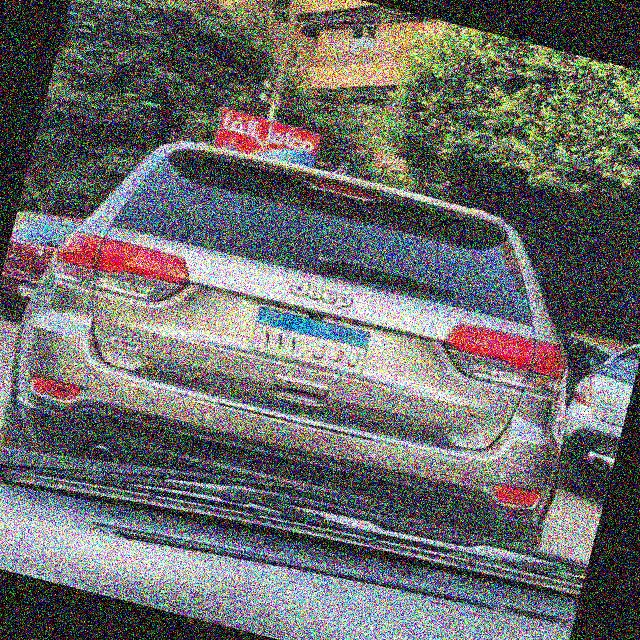License Plate: (246, 303, 374, 379)
